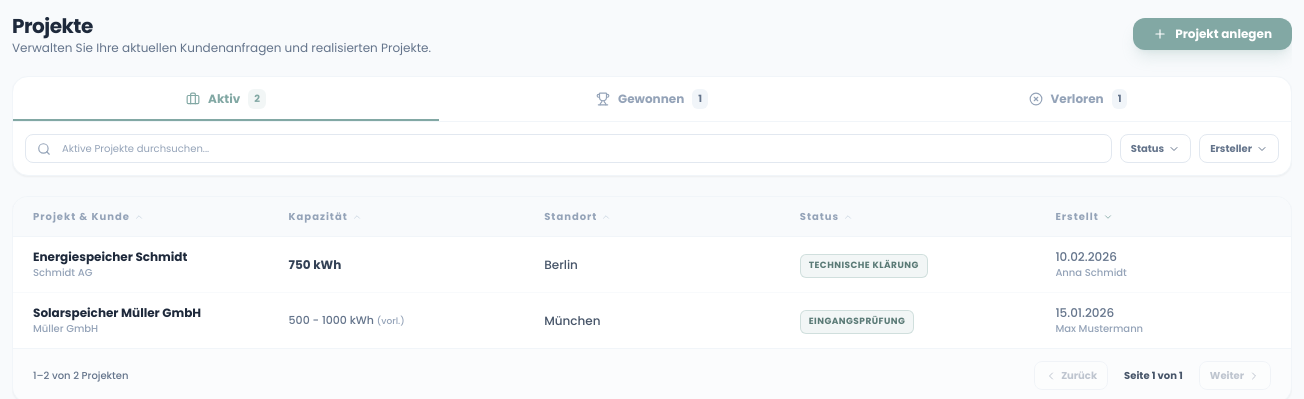
Test: ProjektUeberblick – Suche › filtert nach Projektnamen
The image size is (1304, 399).
Type "Müller" into the field with placeholder "Aktive Projekte durchsuchen..." at (568, 148), box x1=25 y1=134 x2=1112 y2=163
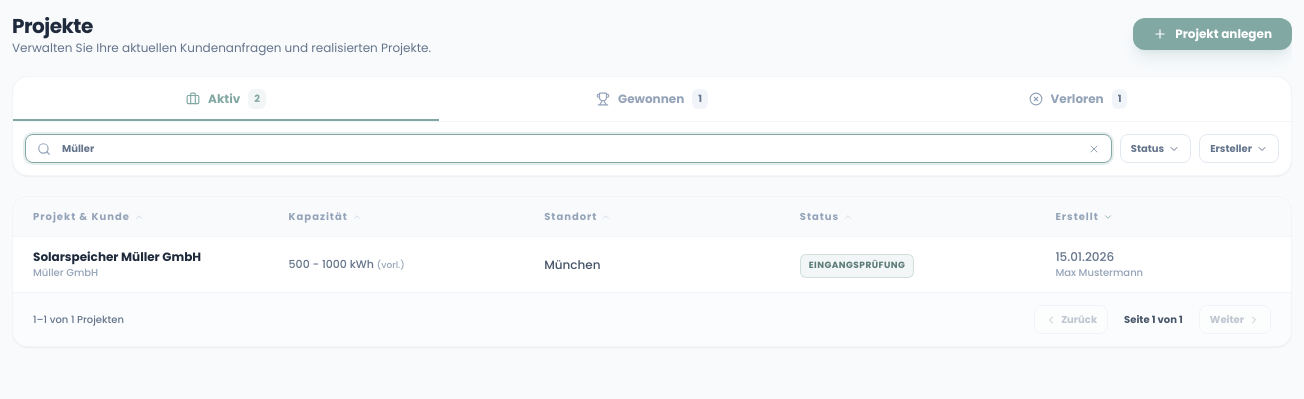
Expected: the text "Solarspeicher Müller GmbH" is shown, x1=33 y1=248 x2=201 y2=265
Expected: the text "Energiespeicher Schmidt" is gone
